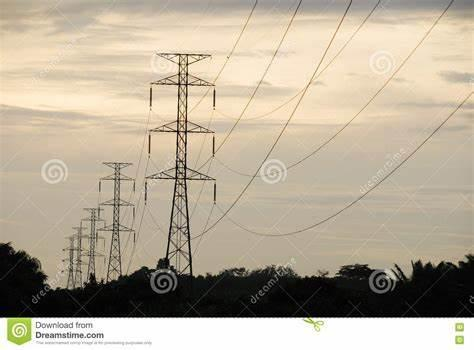power_tower: (144, 48, 222, 280), (97, 157, 136, 291), (83, 204, 105, 285)
